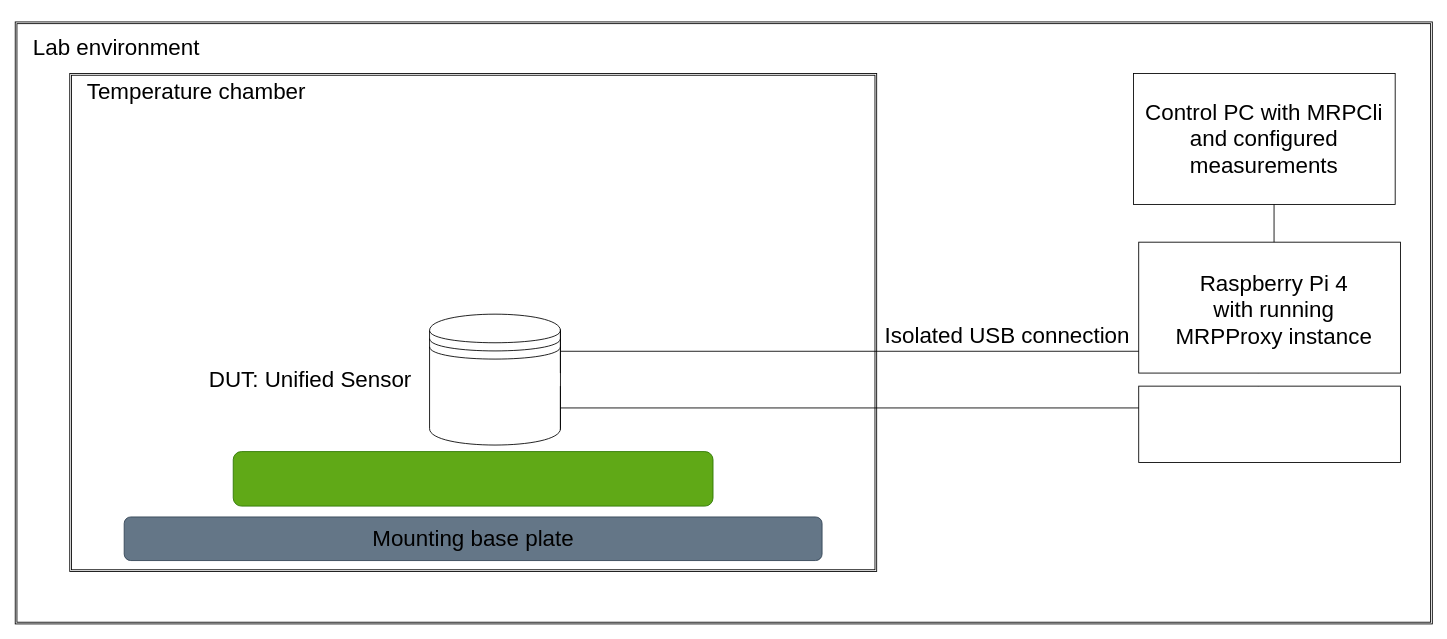
Some shapes in this 1447 by 639 pixel diagram are drawn without their labels. The shapes that lost their labels are listed below. From the top down, each one's centre as x and y in pixels, then its label:
the point at 1269,424: 5V Battery based power supply
the point at 472,478: Temperature isolating spacer
